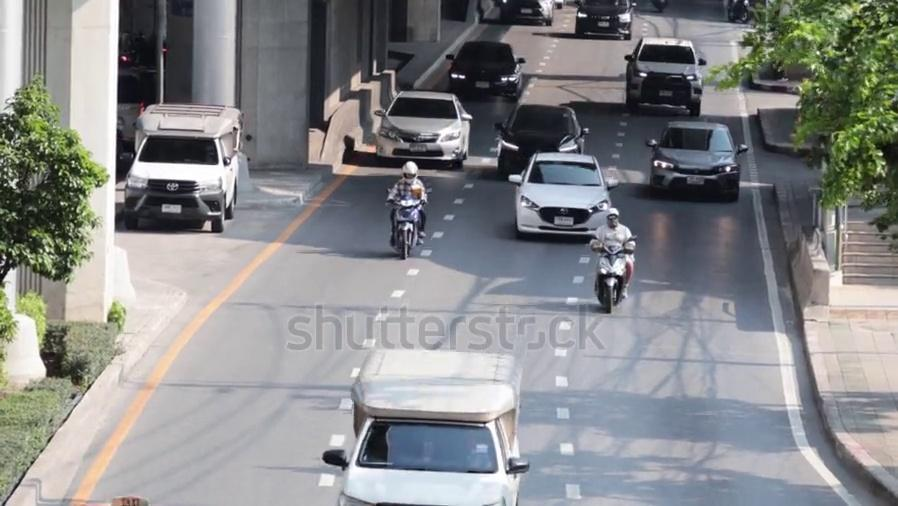rider: (591, 207, 637, 314), (385, 160, 427, 262)
with_helmate: (401, 163, 419, 186), (604, 207, 622, 228)
